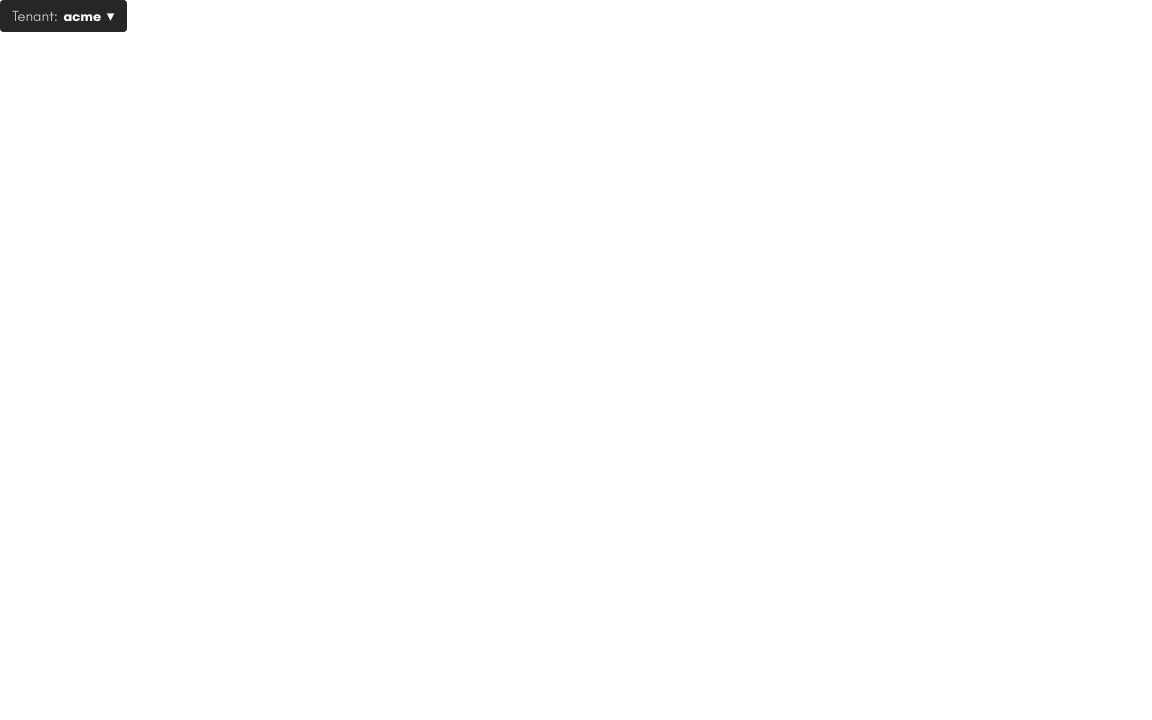
it: TenantSwitcher › shows the API error when creation fails
This screenshot has width=1152, height=720.
Press Enter in the button "Tenant: acme ▾", box [0,0,126,32]
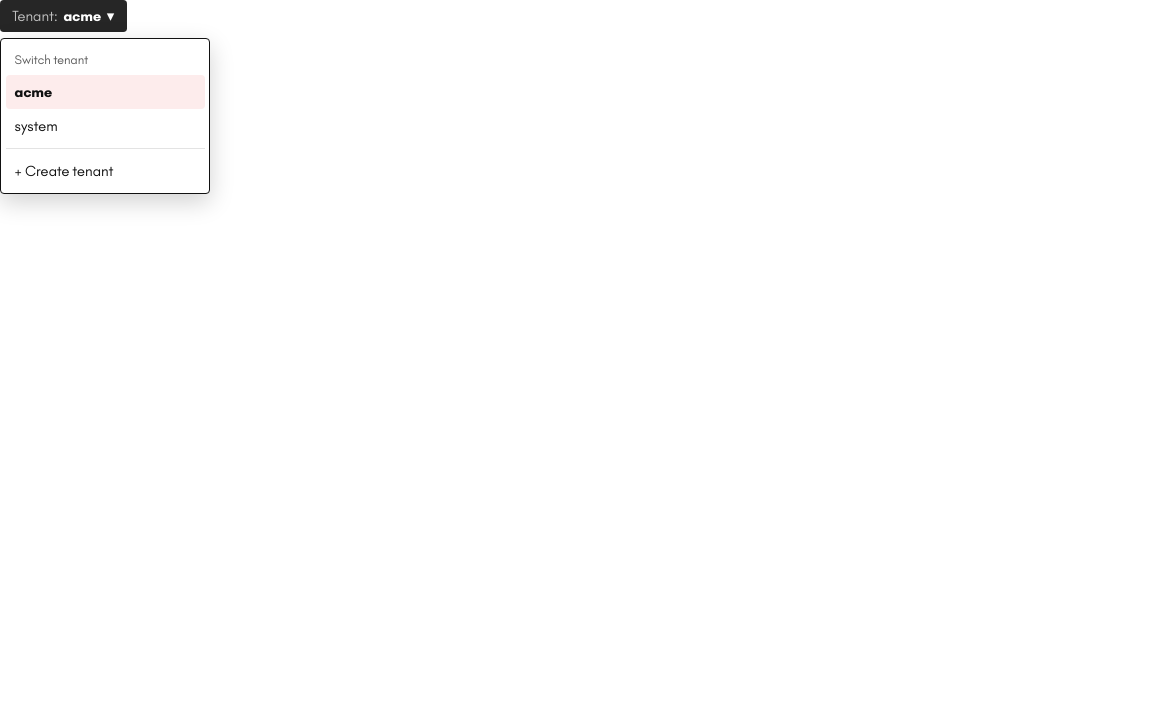
Click the menu item "+ Create tenant": [64, 171] box [14,162,113,180]
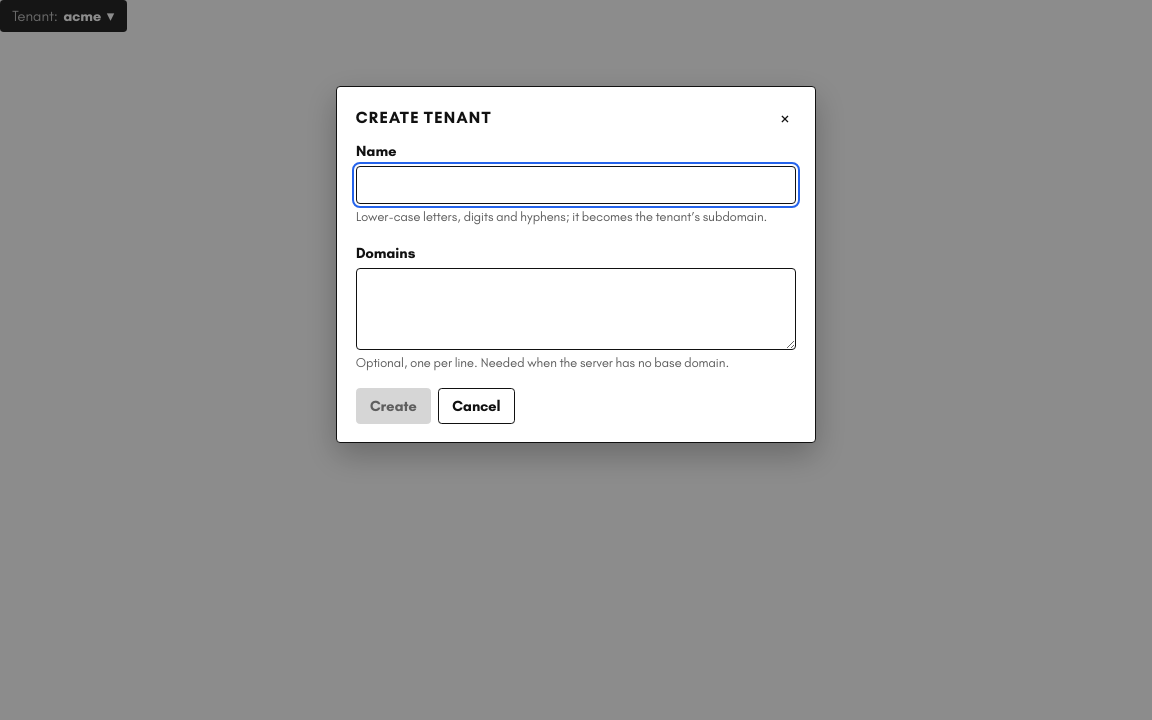
In the field with id "tenant-name": [576, 185] box [356,166,796,204], type "acme"
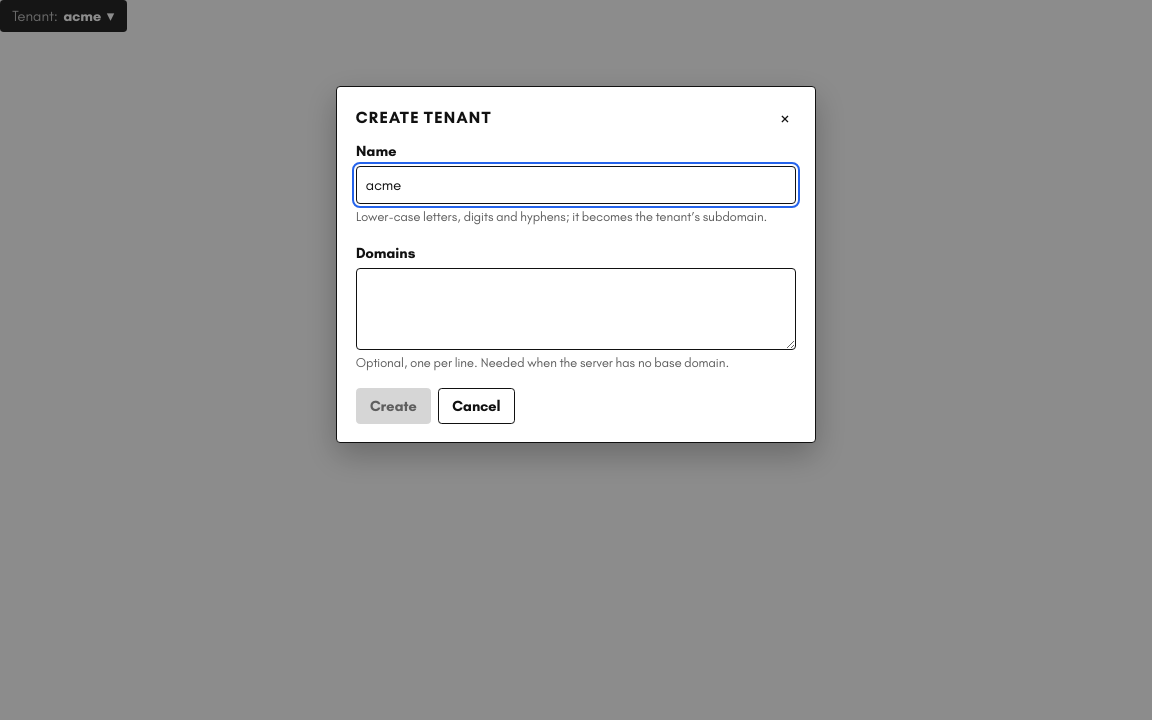
Submit the form, box [356,140,796,424]
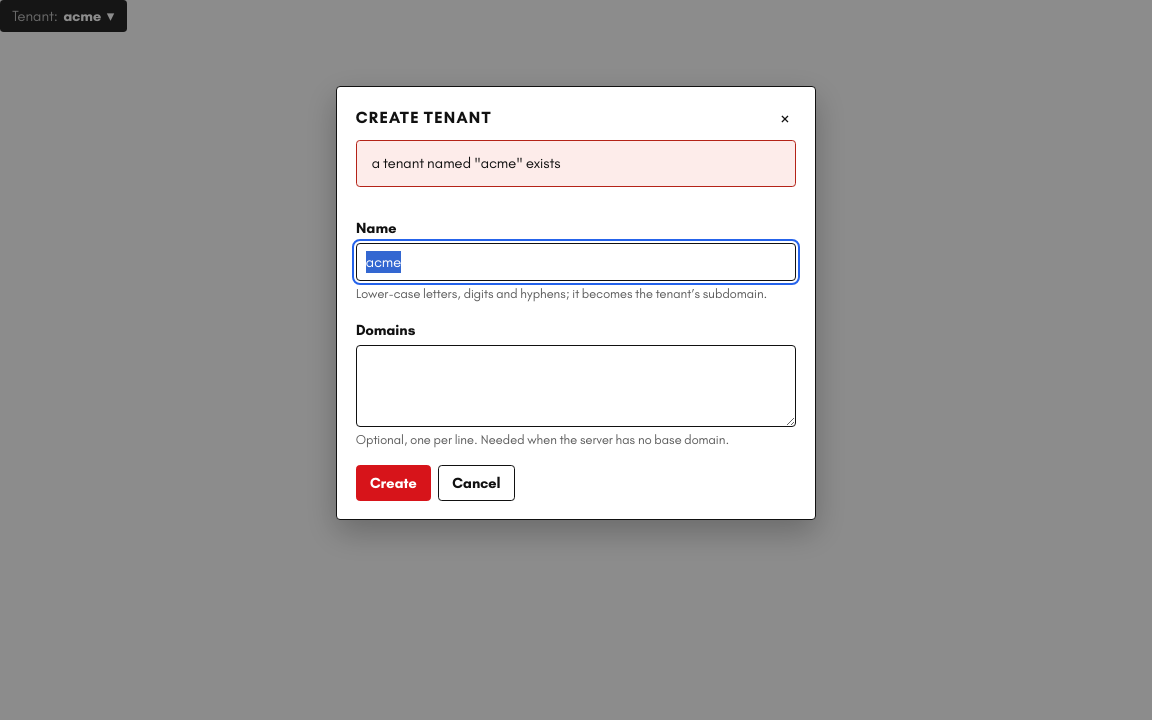
Expected: the message "a tenant named \"acme\" exists" reads "a tenant named \"acme\" exists", [372,154,561,172]
